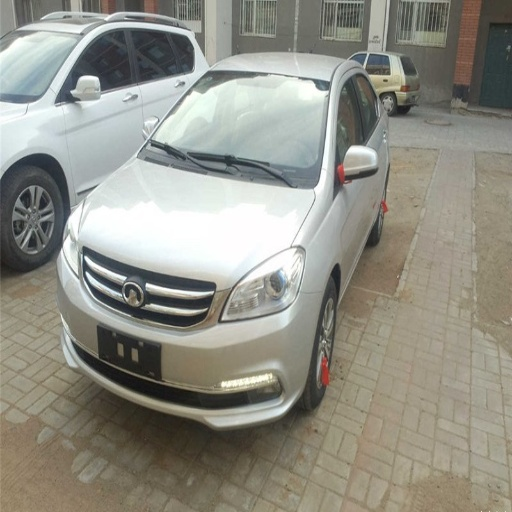front_bumper: (62, 250, 318, 430)
front_glass: (140, 73, 330, 188), (4, 31, 80, 101)
front_left_door: (64, 25, 142, 190), (334, 69, 377, 250)
